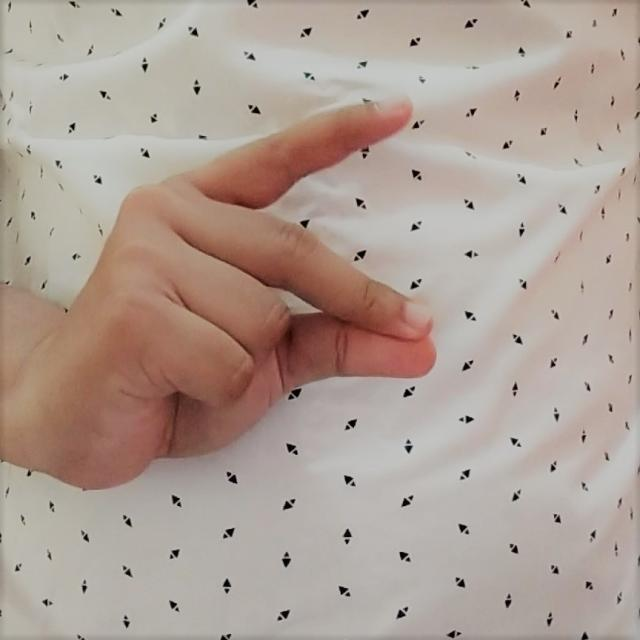R: (64, 84, 465, 495)
